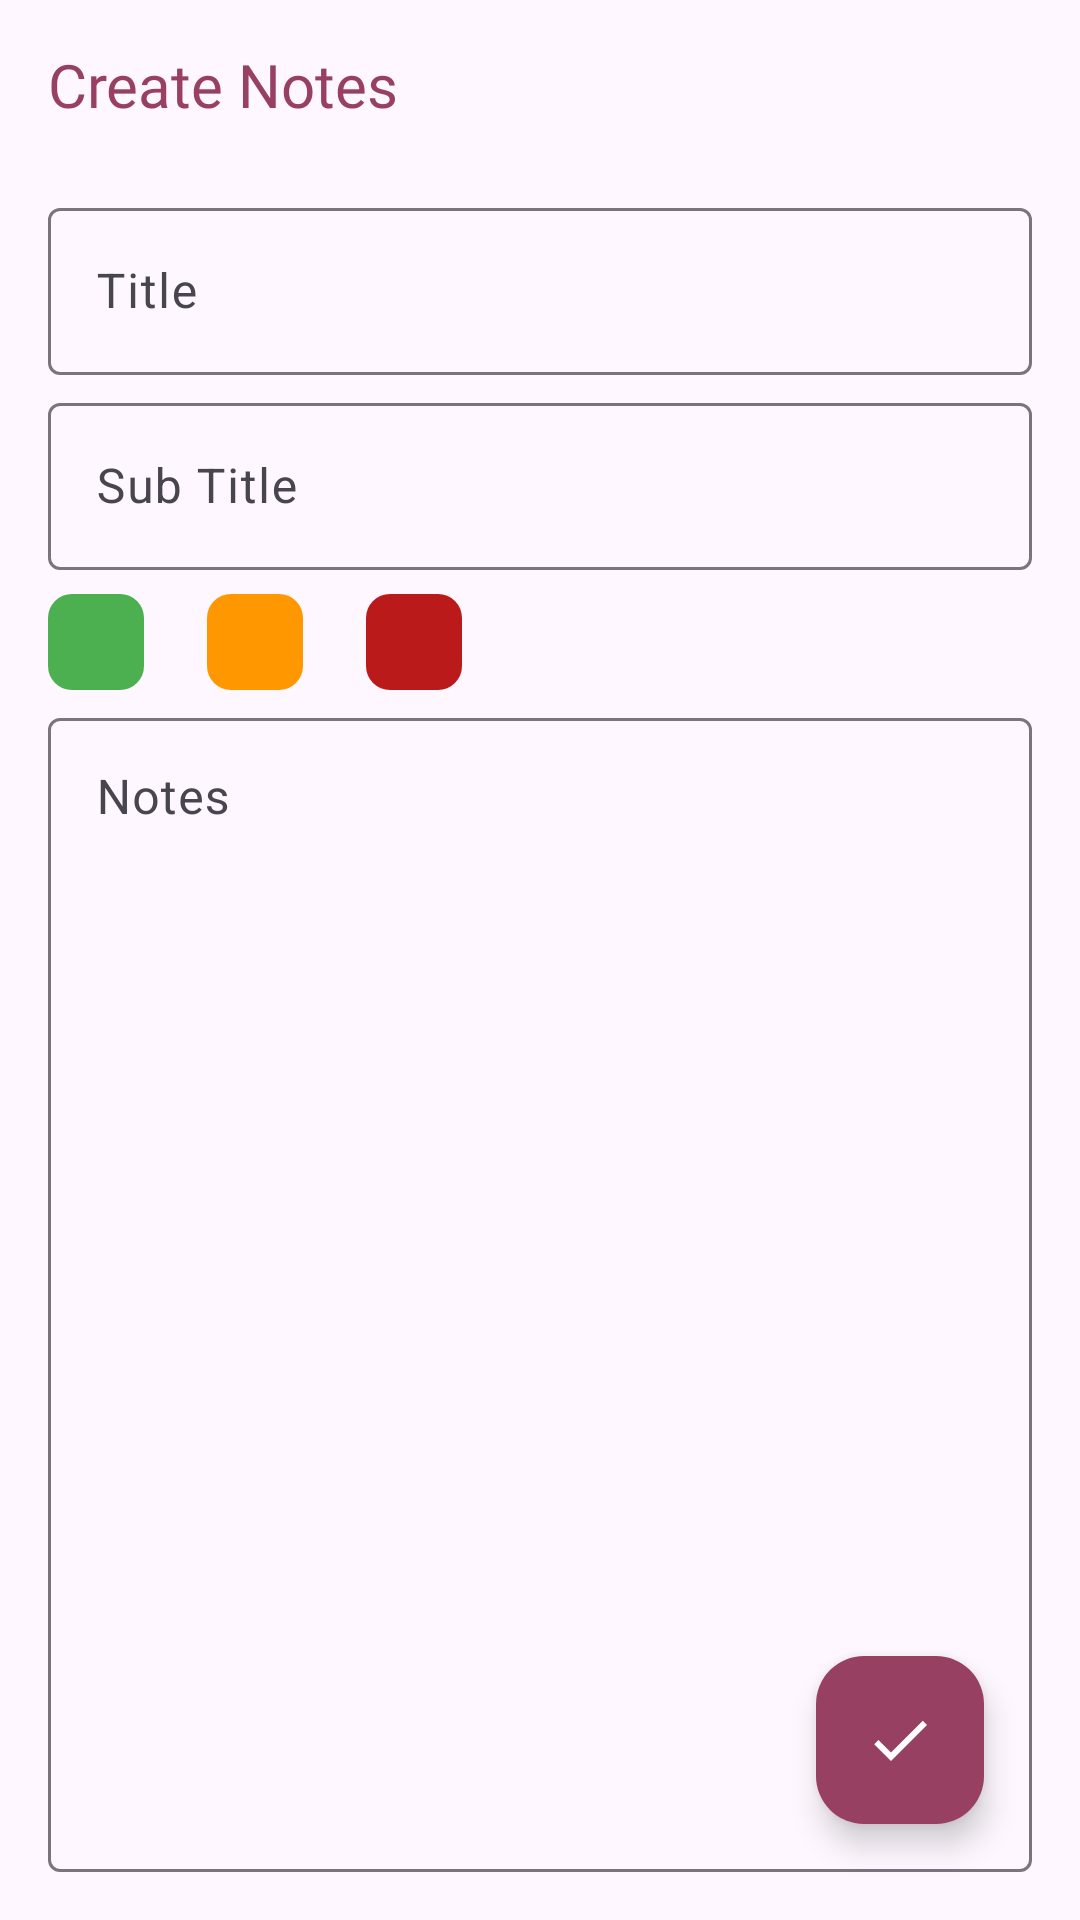

Where to tap for icons on this 1080*1920 app screen, as point (x, y):
done: point (900, 1740)
